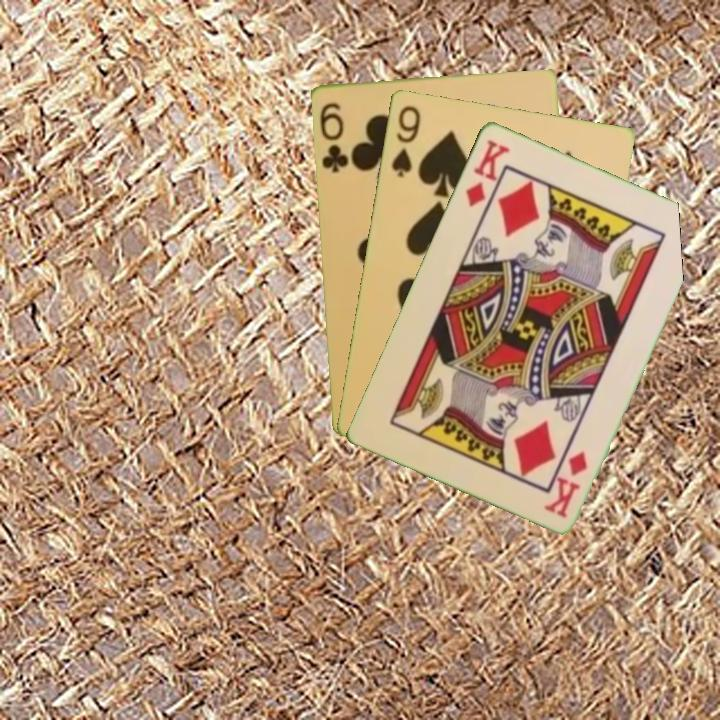6c: (315, 99, 351, 175)
9s: (387, 101, 423, 180)
Kd: (461, 135, 512, 210), (541, 446, 590, 520)
